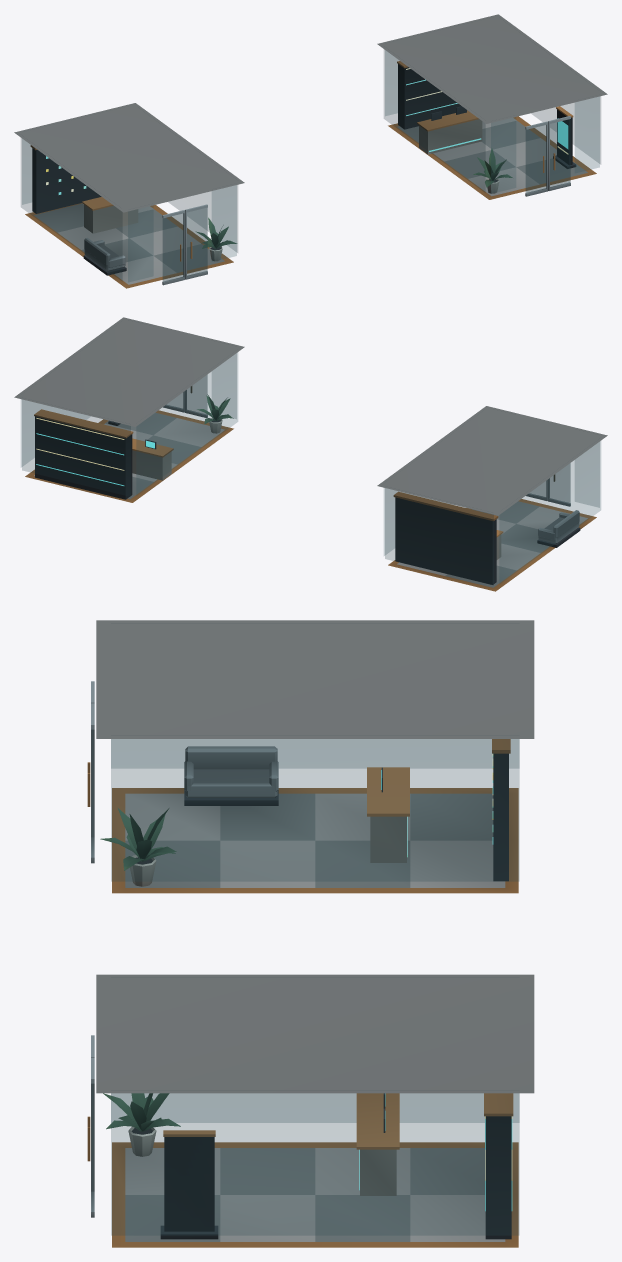
File: lobby-integrations.lod1.glb
3 renders of one model, top to bottom at view 1: azimuth 30°, elevation 25°; view 2: azimuth 150°, elevation 25°; view 3: azimuth 270°, elevation 25°, orthographic. The views are drawn at different scales.
Parts seen in each view (by area): view 1: structure, door_1_l, door_0_l, door_0_r, door_1_r, foliage; view 2: structure, door_0_l, door_1_l, foliage; view 3: structure, foliage.
Part boxes in pixels (x1,y1,x2,y2): structure: [14, 14, 607, 288]; door_1_l: [525, 121, 548, 196]; door_0_l: [162, 210, 185, 285]; door_0_r: [185, 204, 207, 279]; door_1_r: [548, 116, 570, 190]; foliage: [196, 148, 512, 248]; structure: [14, 317, 607, 591]; door_0_l: [548, 463, 570, 506]; door_1_l: [185, 375, 207, 417]; foliage: [197, 394, 233, 423]; structure: [96, 620, 534, 1247]; foliage: [100, 808, 180, 1131].
Size of the model in its own units: 21.36 by 3.42 by 8.53.
